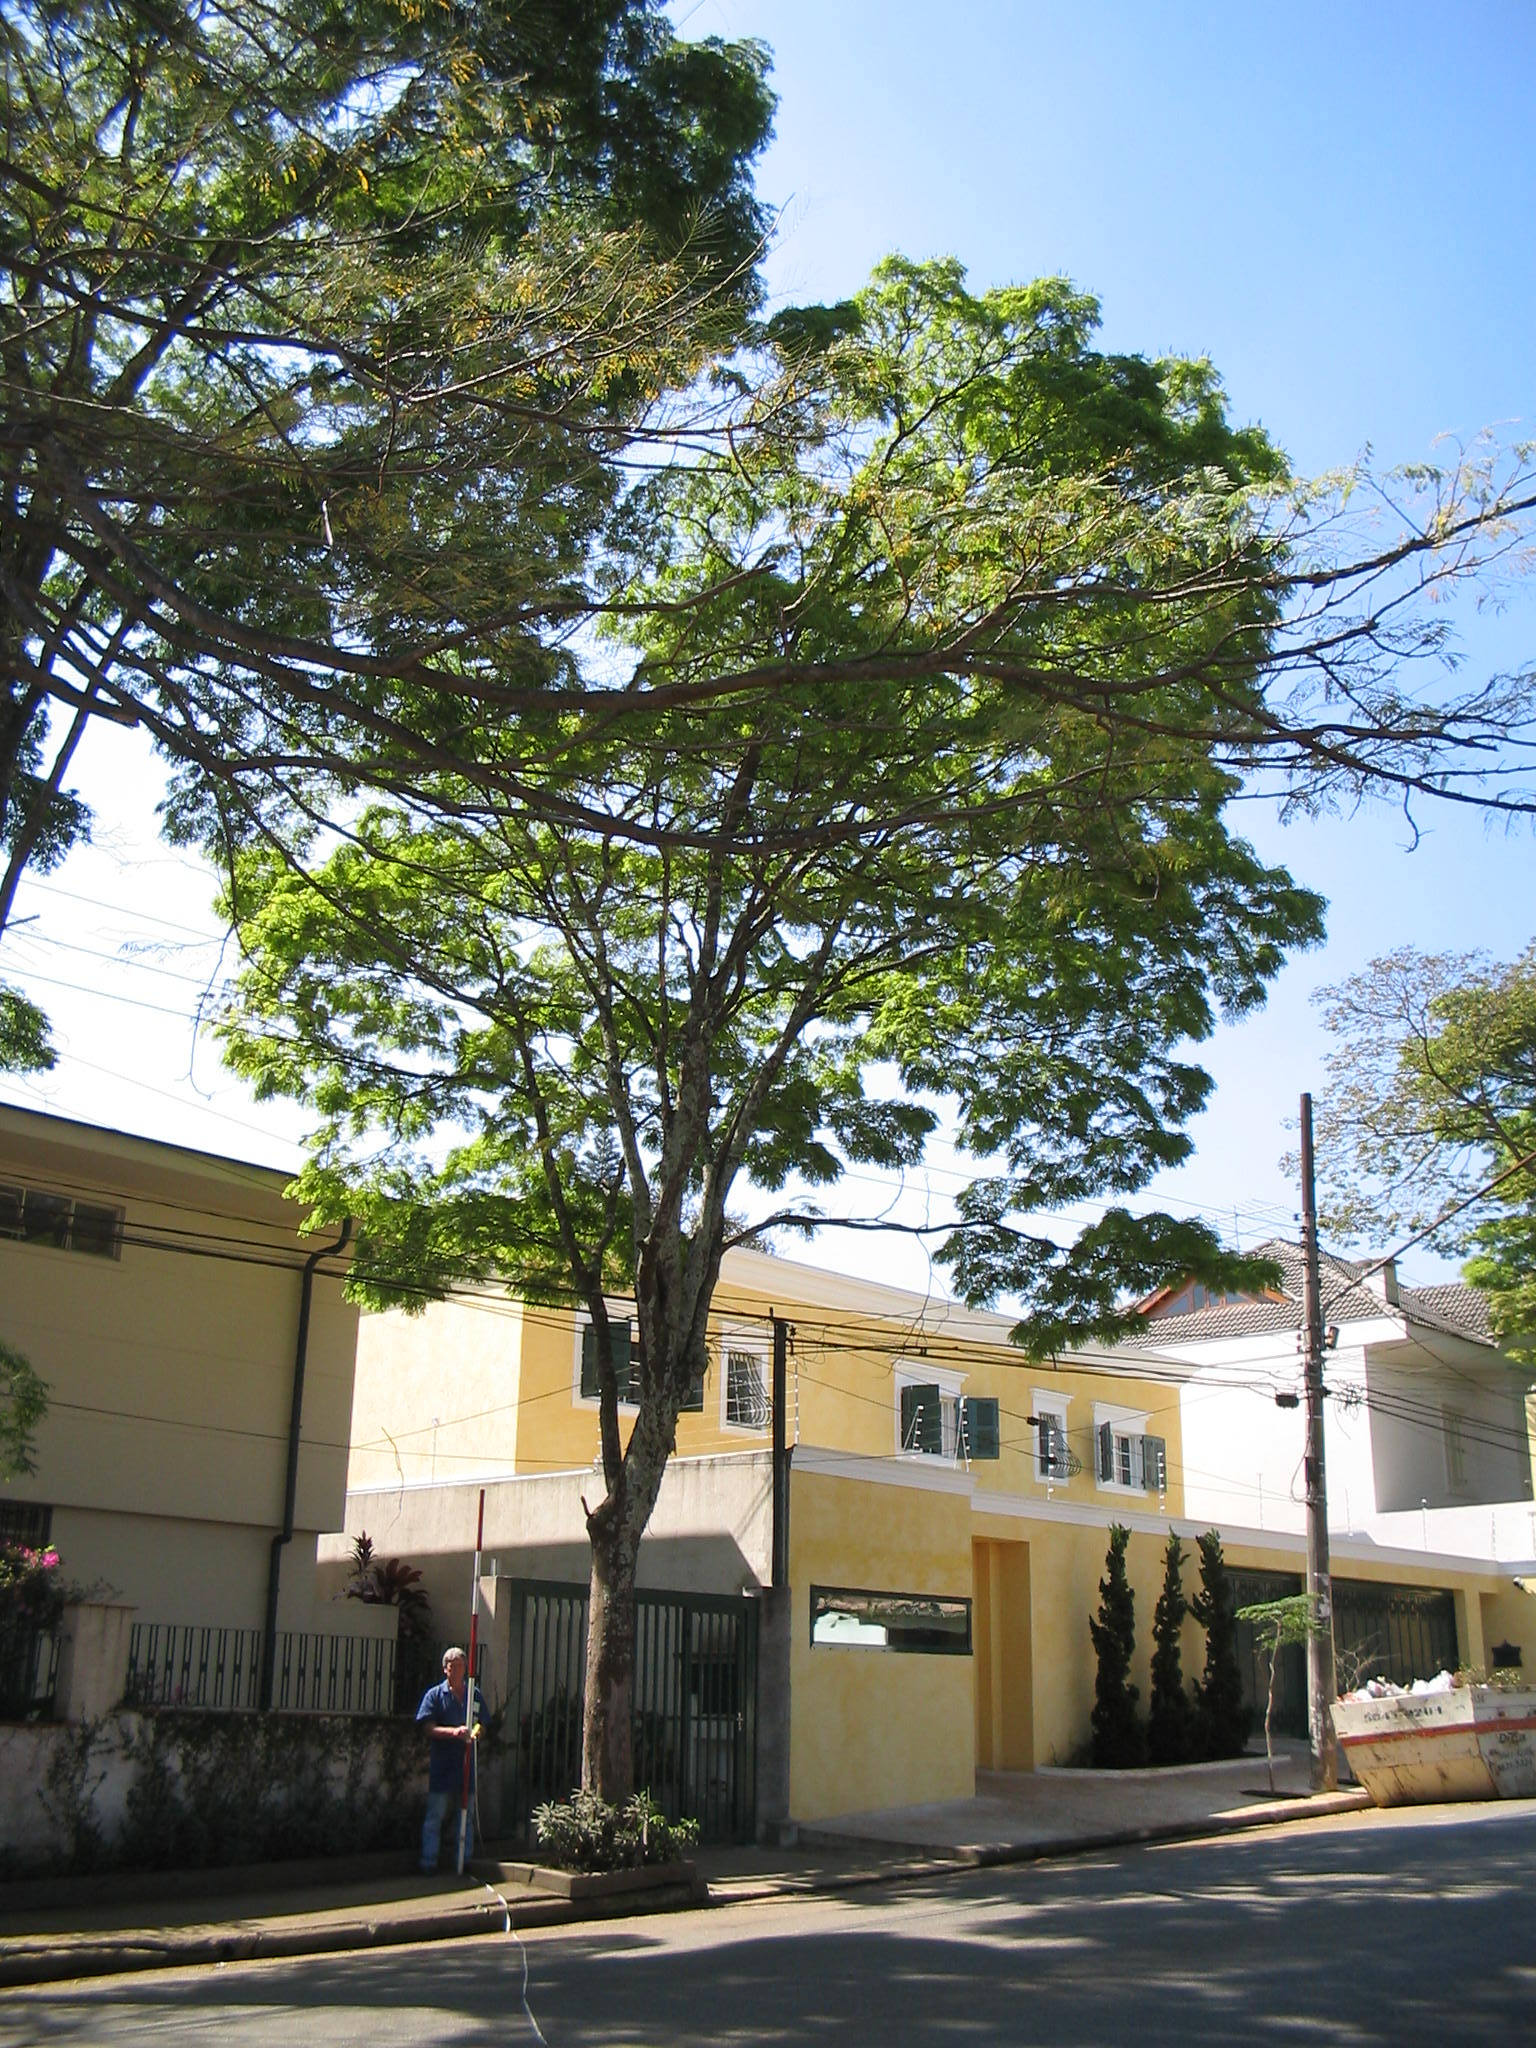crown: (207, 261, 1317, 1397)
stem: (541, 1492, 670, 1863)
stick: (447, 1487, 492, 1884)
tree: (198, 253, 1323, 1863)
